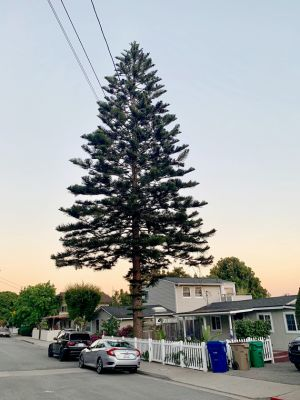tree: (50, 40, 217, 339)
